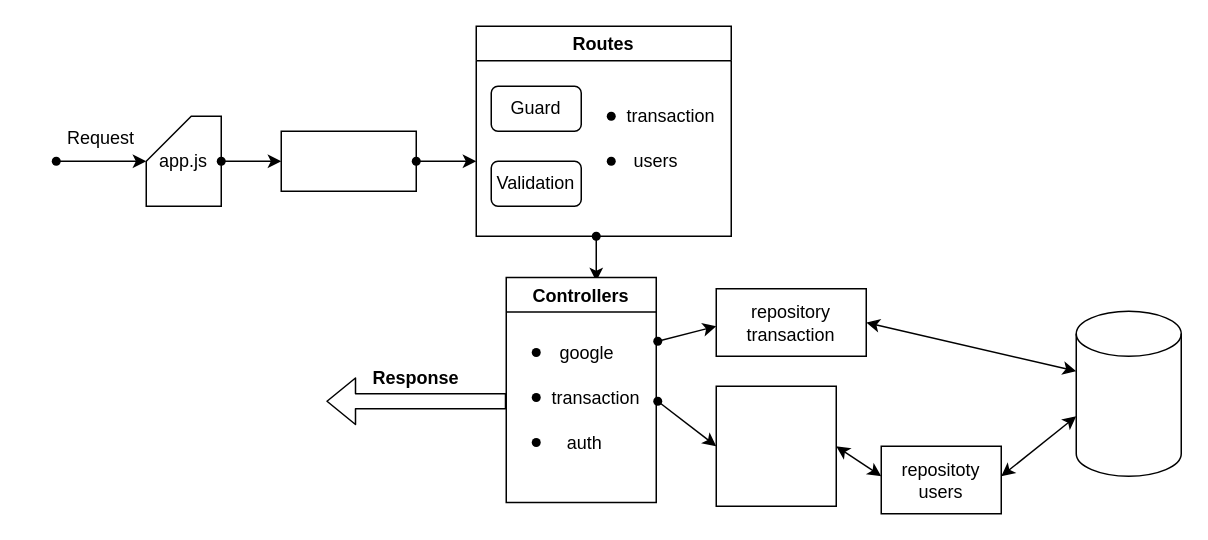
This 1208x540 diagram has some shape labels left out. Here are the shapes that lost their labels. From the top down, the box of each, then its label:
(280, 130, 416, 191): Global middlewares
(1075, 310, 1181, 476): Model
(715, 385, 836, 506): AuthServise
